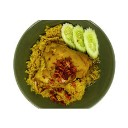briyani: (30, 38, 89, 104)
